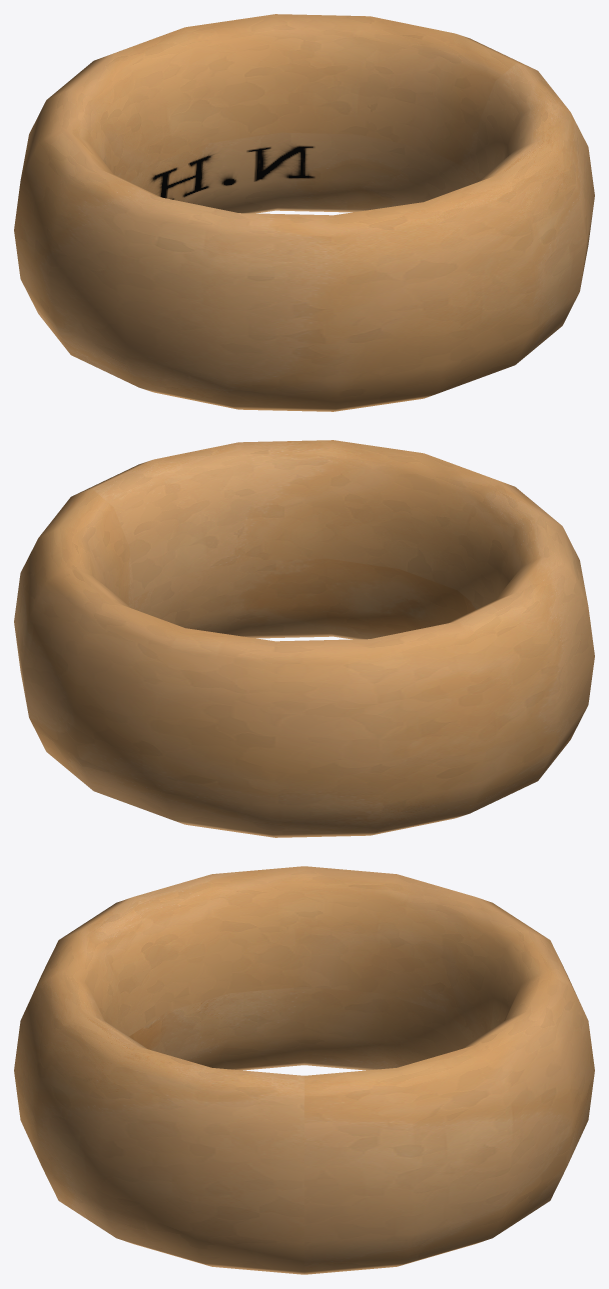
Rendered from WeddingRing.fbx.
3 renders of one model, top to bottom at view 1: azimuth 30°, elevation 25°; view 2: azimuth 150°, elevation 25°; view 3: azimuth 270°, elevation 25°, orthographic.
Parts seen in each view (by area): view 1: WeddingRing; view 2: WeddingRing; view 3: WeddingRing.
Part boxes in pixels (<box>): WeddingRing: <box>14,14,594,411</box>; WeddingRing: <box>14,440,594,837</box>; WeddingRing: <box>14,866,594,1274</box>.
Size of the model in its own units: 0.3513 by 0.1294 by 0.3424.
